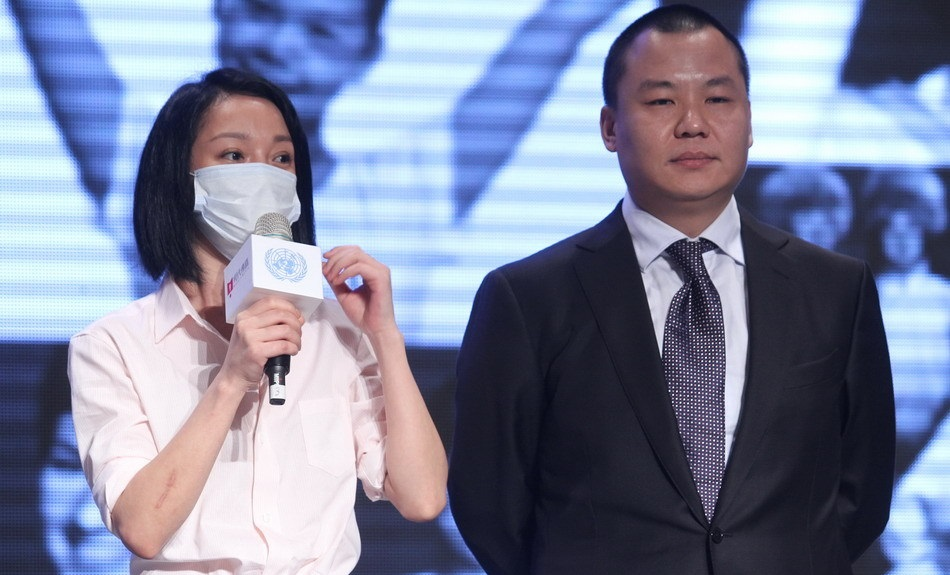face: (618, 30, 755, 197), (169, 94, 310, 242)
